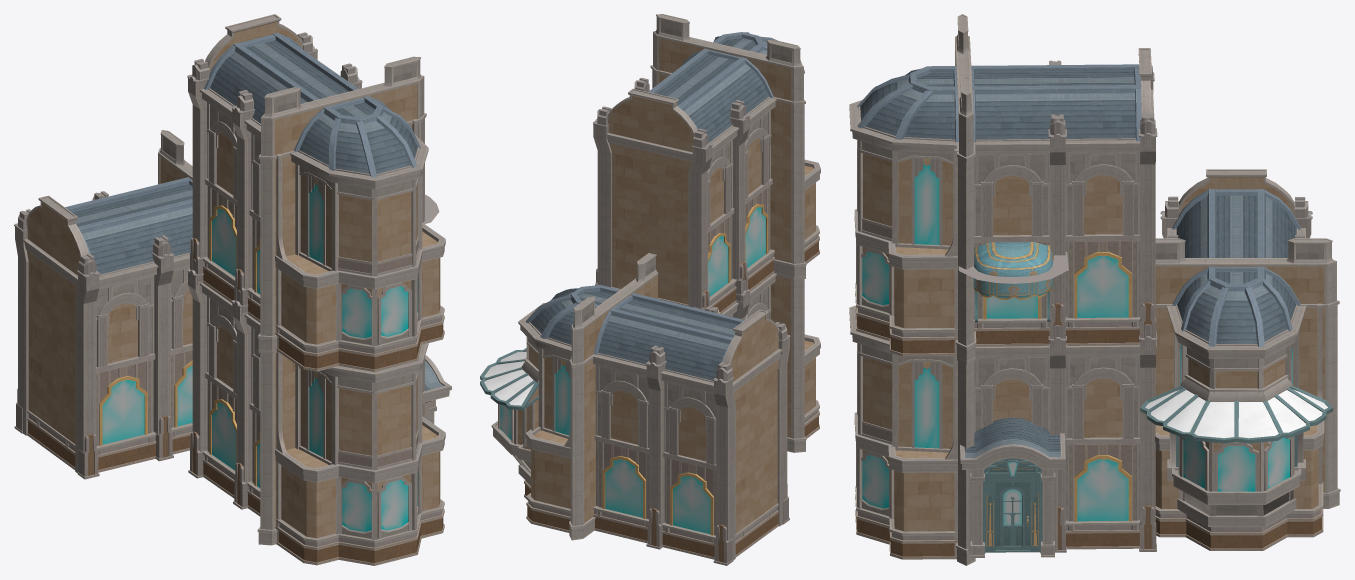
Rendered from Homeworld_Exterior_Fd_Build_ZhuchengJz_10_Lod0.fbx.
The picture shows the model from 3 angles, left to right: view 1: azimuth 30°, elevation 25°; view 2: azimuth 150°, elevation 25°; view 3: azimuth 270°, elevation 25°; orthographic projection. The views are drawn at different scales.
Visible parts, largest first — view 1: Homeworld_Exterior_Fd_Build_ZhuchengJz_10_Lod0; view 2: Homeworld_Exterior_Fd_Build_ZhuchengJz_10_Lod0; view 3: Homeworld_Exterior_Fd_Build_ZhuchengJz_10_Lod0, Area_Fd_Prop_FDC_Pengzi_01_Ocl.
Part boxes in pixels (left/top/right/bottom): Homeworld_Exterior_Fd_Build_ZhuchengJz_10_Lod0: left=14, top=14, right=451, bottom=565; Homeworld_Exterior_Fd_Build_ZhuchengJz_10_Lod0: left=480, top=14, right=820, bottom=565; Homeworld_Exterior_Fd_Build_ZhuchengJz_10_Lod0: left=849, top=14, right=1340, bottom=565; Area_Fd_Prop_FDC_Pengzi_01_Ocl: left=958, top=251, right=1068, bottom=283.
Size of what is drawn, in the model's own units: 16.41 by 23.76 by 22.61.
